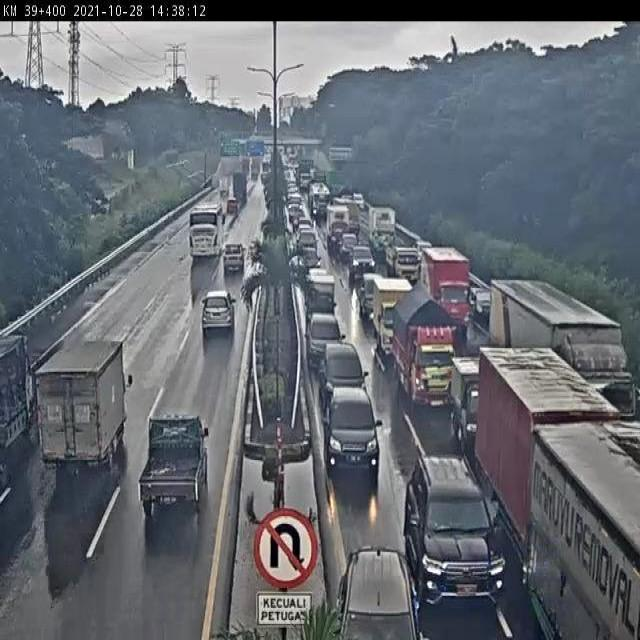big bus: (180, 205, 228, 260)
big truck: (483, 346, 607, 554), (530, 418, 640, 640), (29, 328, 127, 472), (400, 291, 463, 400), (445, 357, 505, 452), (0, 325, 33, 467), (425, 244, 473, 324), (370, 284, 420, 349), (308, 312, 344, 365)
car: (410, 452, 500, 617), (333, 541, 410, 640), (327, 384, 388, 480), (317, 339, 370, 409), (197, 284, 236, 335), (218, 240, 255, 275)
small truck: (128, 405, 220, 523)
